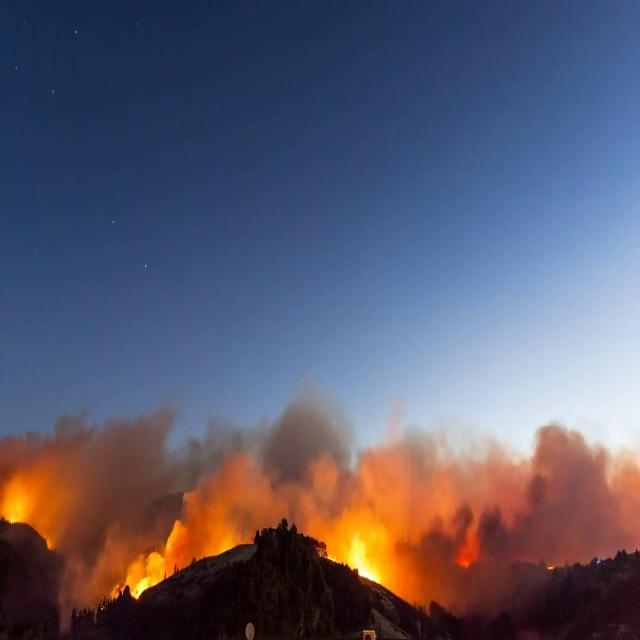Fire: (2, 400, 638, 618), (318, 534, 382, 586), (106, 554, 168, 604), (5, 474, 32, 524), (546, 565, 554, 571)
